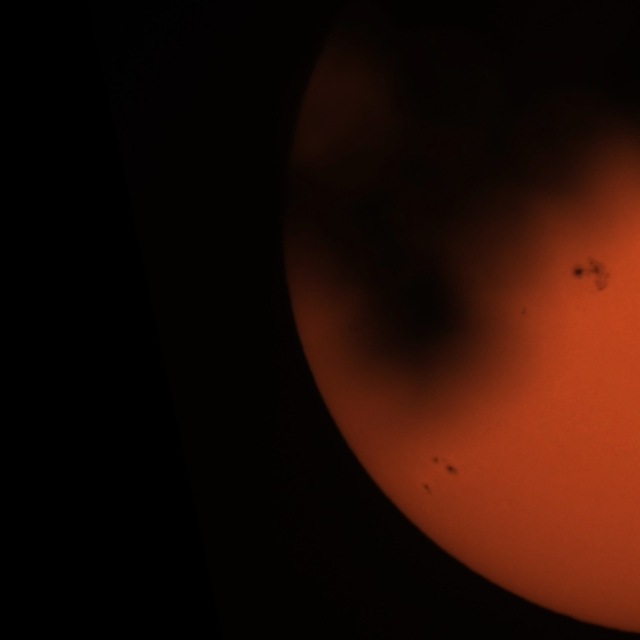sunspot: (569, 255, 613, 295), (430, 455, 458, 477), (444, 462, 459, 477), (422, 482, 432, 496), (430, 455, 440, 466), (520, 306, 528, 318)
